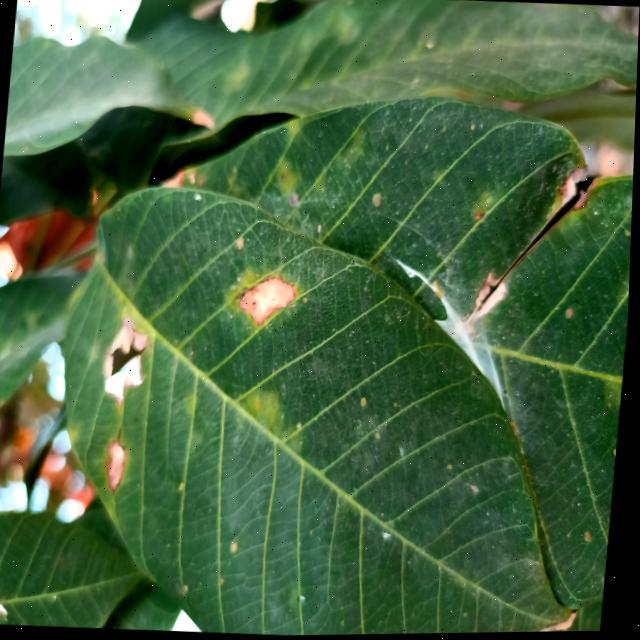Leaf-Blight: (103, 313, 154, 401), (236, 275, 297, 327), (468, 273, 510, 326), (560, 168, 595, 214), (527, 608, 581, 634), (108, 441, 129, 495)
